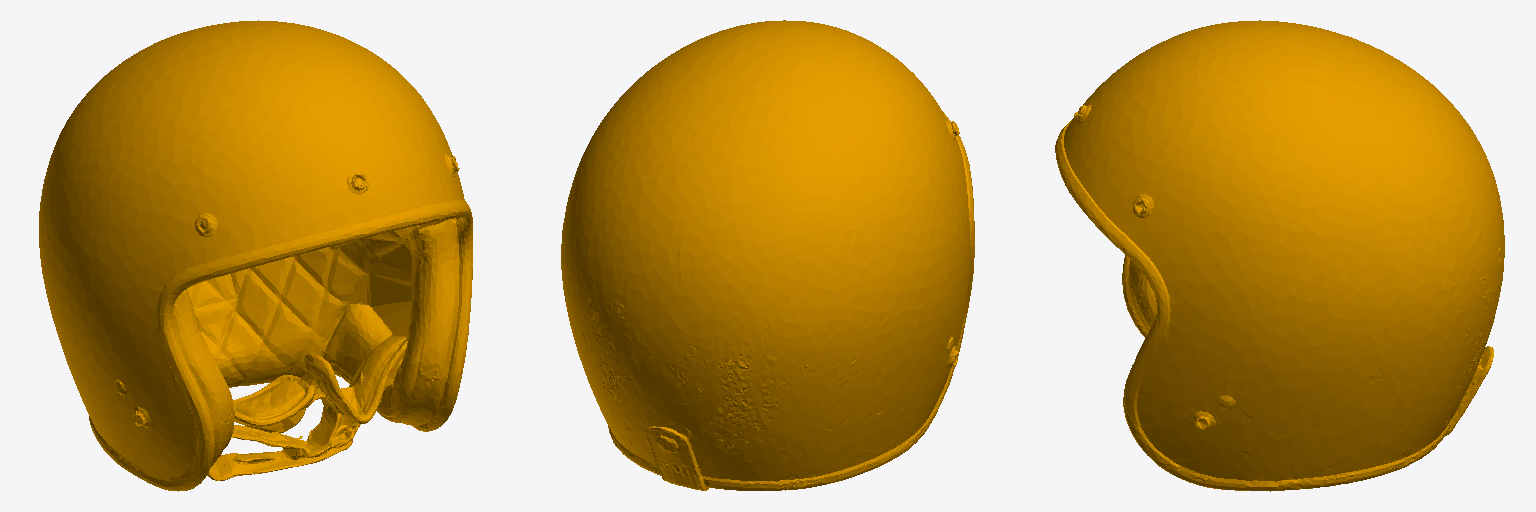
robot.urdf — 1ty6ds00:
<?xml version='1.0'?>

<robot name="1ty6ds00">
    <static>false</static>
    <link name="link">
        <inertial>
            <mass value="0.11502433881596856"/>
            <inertia ixx="0.00012469568544124692" ixy="7.166574570529105e-08" ixz="4.80433129474057e-07"
                     iyy="0.00013402767185375557" iyz="1.5963977401170296e-05" izz="0.00012225701495251394"/>
        </inertial>
        <collision name="collision">
            <geometry>
                <mesh filename="package://miscnet/train/1ty6ds00/collision_model_vhacd.obj"/>
            </geometry>
        </collision>
        <visual name="visual">
            <geometry>
                <mesh filename="package://miscnet/train/1ty6ds00/visual_model.obj"/>
            </geometry>
        </visual>
    </link>
</robot>

--- What the picture shows (computed from the rendered views, not written in the file) ---
3 views of the same robot in one strip: view 1: azimuth 30°, elevation 25°; view 2: azimuth 150°, elevation 25°; view 3: azimuth 270°, elevation 25° (orthographic).
Model 1ty6ds00 with 1 links and 0 joints (none), rooted at link, posed all joints at 0.
Visible links, largest first — view 1: link; view 2: link; view 3: link.
Boxes of the visible links, x1=… form: link: x1=39, y1=20, x2=472, y2=491; link: x1=561, y1=20, x2=974, y2=490; link: x1=1055, y1=20, x2=1504, y2=491.
Size in the robot's own frame: 0.0879 by 0.0976 by 0.093 metres.
Meshes: 1 distinct files referenced, 1 mesh visuals loaded (1 OBJ).
